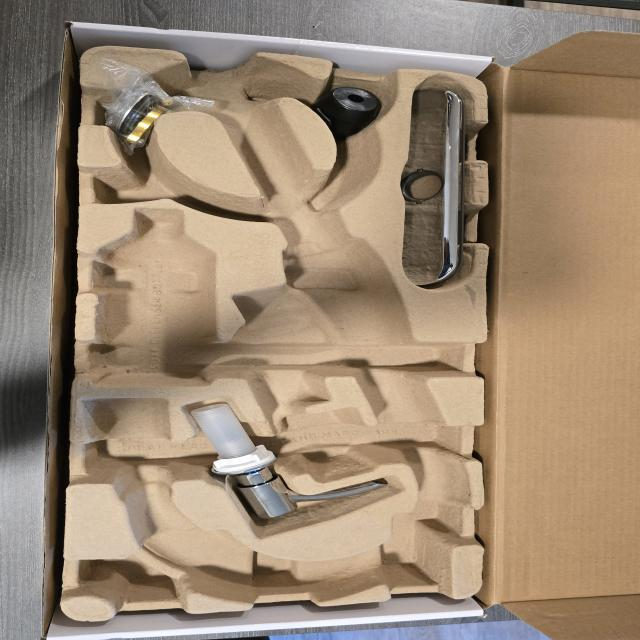1m: (82, 51, 469, 602)
2: (189, 401, 384, 522)
3m: (95, 207, 211, 385)
4: (400, 88, 462, 287)
5: (319, 87, 381, 137)
6: (99, 55, 219, 152)
7m: (91, 152, 234, 215)
